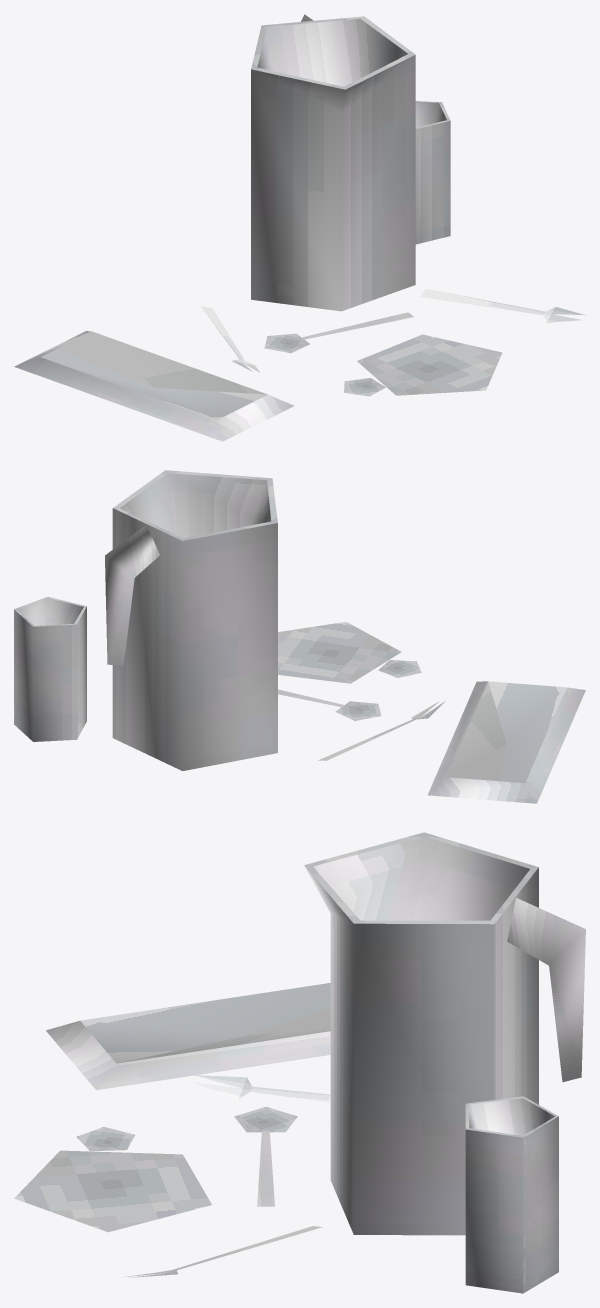
The model's file is eqp_cook_kitchen_set_lg_s1_l2.fbx.
3 views of the same model, one above another, from view 1: azimuth 30°, elevation 25°; view 2: azimuth 150°, elevation 25°; view 3: azimuth 270°, elevation 25° (orthographic). The views are drawn at different scales.
Parts seen in each view (by area): view 1: mesh_node; view 2: mesh_node; view 3: mesh_node.
Boxes of the visible parts, box(x1,y1,x2,y2) form: mesh_node: box(14, 14, 585, 441); mesh_node: box(14, 470, 585, 803); mesh_node: box(14, 832, 585, 1293).
Bounding box in the file's own units: 0.6674 × 0.3089 × 0.5143.
